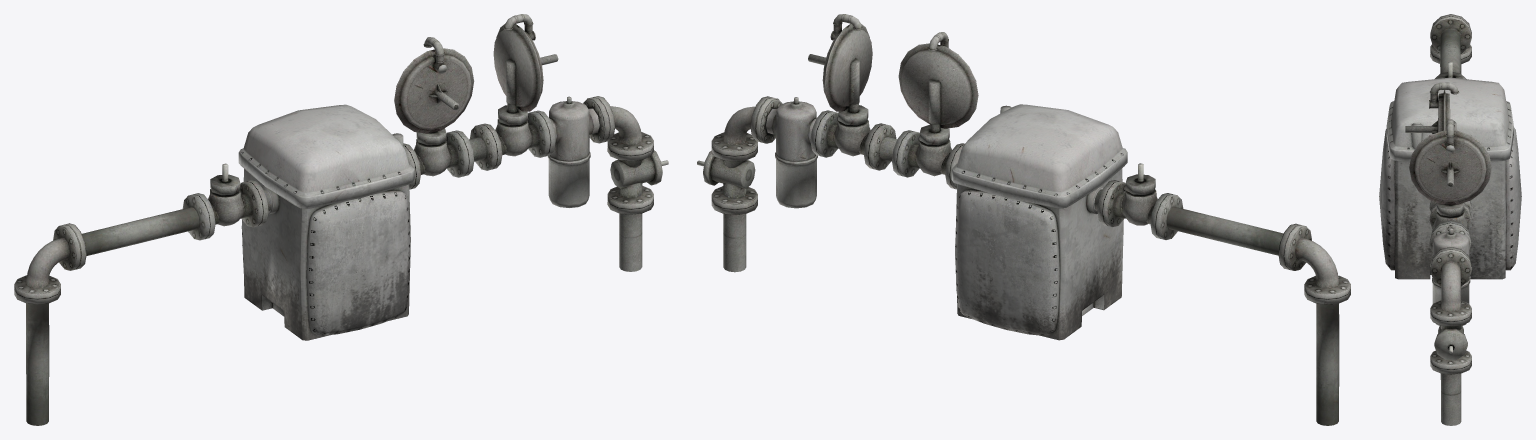
The model's file is SM_gaspipes_01.fbx.
The picture shows the model from 3 angles, left to right: view 1: azimuth 30°, elevation 25°; view 2: azimuth 150°, elevation 25°; view 3: azimuth 270°, elevation 25°; orthographic projection. The views are drawn at different scales.
Parts seen in each view (by area): view 1: SM_gaspipes_01_LOD0; view 2: SM_gaspipes_01_LOD0; view 3: SM_gaspipes_01_LOD0.
Boxes of the visible parts, x1=… form: SM_gaspipes_01_LOD0: x1=14, y1=14, x2=668, y2=425; SM_gaspipes_01_LOD0: x1=697, y1=14, x2=1350, y2=425; SM_gaspipes_01_LOD0: x1=1379, y1=14, x2=1521, y2=425.
Bounding box in the file's own units: 526 × 111 × 223.
Materials: 1 (1 with a texture image).
